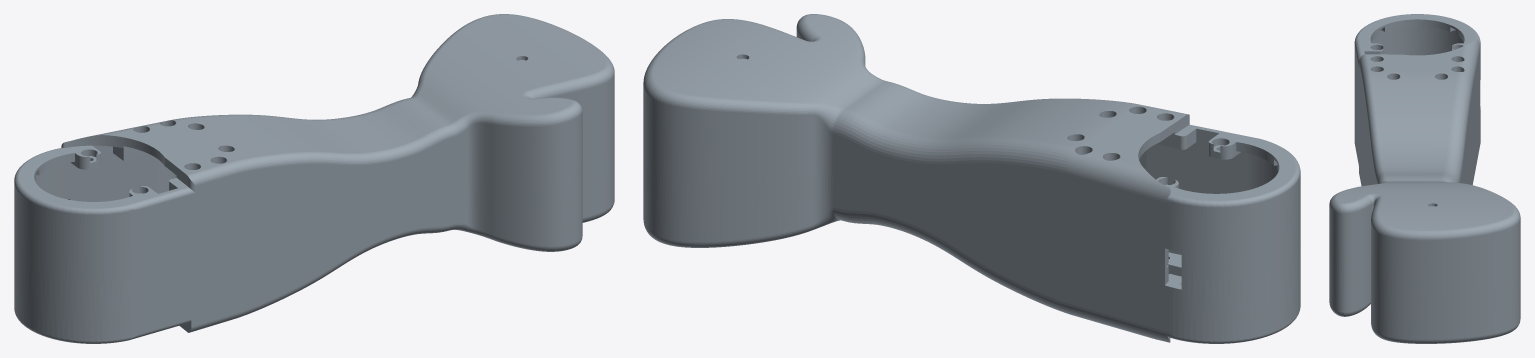
Rendered from FLO LOWER ARM - RIGHT.dae.
3 views of the same model, side by side, from view 1: azimuth 30°, elevation 25°; view 2: azimuth 150°, elevation 25°; view 3: azimuth 270°, elevation 25° (orthographic). The views are drawn at different scales.
Parts seen in each view (by area): view 1: 5ca6b67311c57816261aa6b2 (×2); view 2: 5ca6b67311c57816261aa6b2 (×2); view 3: 5ca6b67311c57816261aa6b2 (×2).
Part boxes in pixels (left/top/right/bottom): 5ca6b67311c57816261aa6b2 (×2): left=14, top=14, right=614, bottom=343; 5ca6b67311c57816261aa6b2 (×2): left=643, top=14, right=1300, bottom=343; 5ca6b67311c57816261aa6b2 (×2): left=1329, top=14, right=1520, bottom=343.
Bounding box in the file's own units: 0.1772 × 0.064 × 0.0458.
